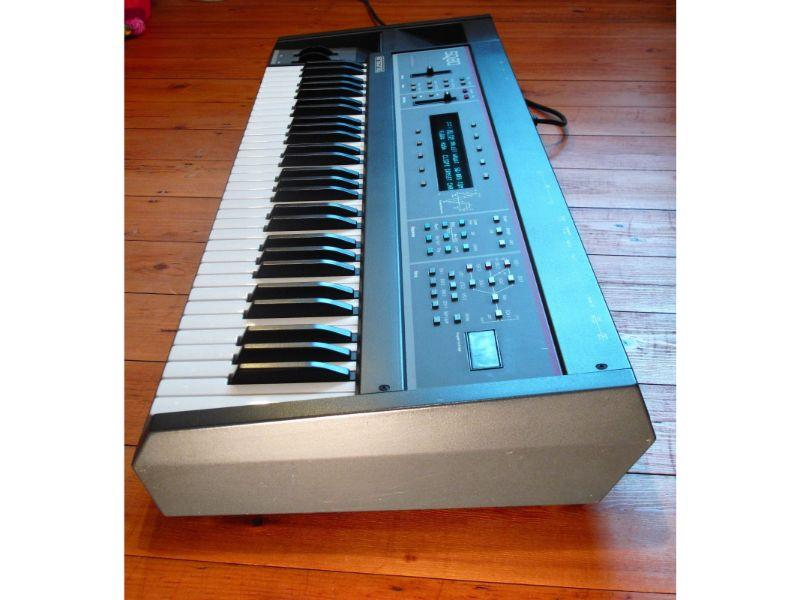synthesizer: (181, 31, 652, 518)
